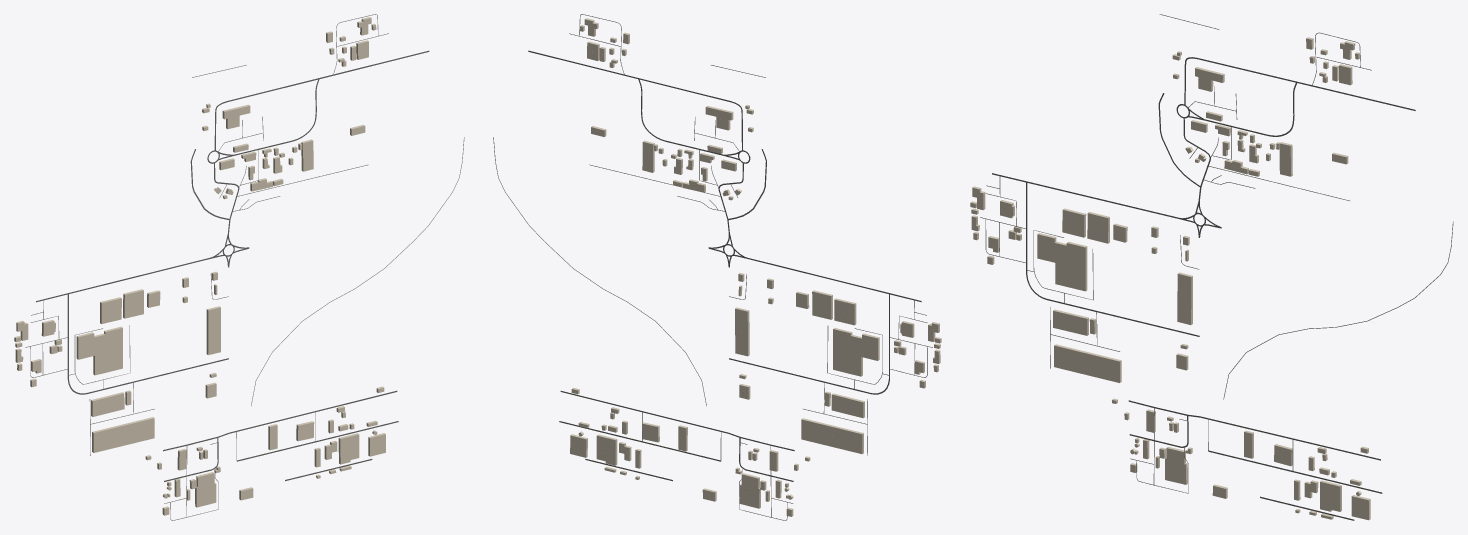
The model's file is historic-palestine-06_17_3478_3114.glb.
The picture shows the model from 3 angles, left to right: view 1: azimuth 30°, elevation 25°; view 2: azimuth 150°, elevation 25°; view 3: azimuth 330°, elevation 25°; orthographic projection. The views are drawn at different scales.
Visible parts, largest first — view 1: Building_.039, Building_.037, Building_.034, Building_.088, Building_.032, Building_.073, Building_.045; view 2: Building_.039, Building_.037, Building_.034, Building_.088, Building_.032, Building_.073, Building_.045, Building_.033; view 3: Building_.039, Building_.037, Building_.034, Building_.088, Building_.032, Building_.045, Building_.073, Building_.033, Road .007, Road .033.
Boxes of the visible parts, x1,y1,x2,y2 form: Building_.039: (76, 326, 122, 375); Building_.037: (92, 417, 154, 452); Building_.034: (206, 306, 220, 355); Building_.088: (195, 472, 216, 507); Building_.032: (91, 392, 124, 416); Building_.073: (338, 433, 359, 464); Building_.045: (123, 289, 143, 318); Building_.039: (833, 328, 879, 376); Building_.037: (801, 418, 863, 454); Building_.034: (735, 307, 749, 356); Building_.088: (739, 473, 760, 508); Building_.032: (831, 393, 864, 418); Building_.073: (596, 434, 617, 465); Building_.045: (812, 290, 832, 319); Building_.033: (834, 298, 856, 325); Building_.039: (1037, 233, 1087, 291); Building_.037: (1054, 344, 1121, 382); Building_.034: (1177, 272, 1192, 324); Building_.088: (1165, 446, 1187, 484); Building_.032: (1053, 309, 1088, 335); Building_.045: (1087, 212, 1109, 243); Building_.073: (1320, 480, 1341, 511); Building_.033: (1062, 208, 1086, 237); Road .007: (1184, 57, 1415, 110); Road .033: (1026, 182, 1199, 336).
Size of the model in its own units: 1173 by 1145 by 9.09.
